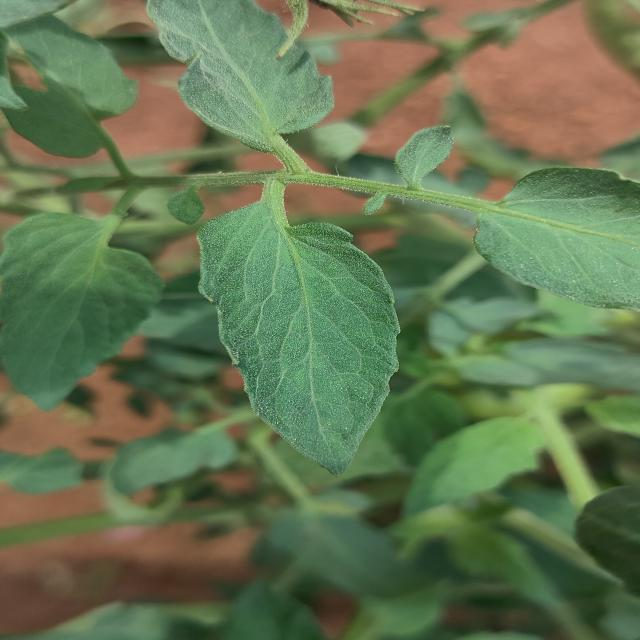tomato_healthy: (202, 194, 399, 475)
